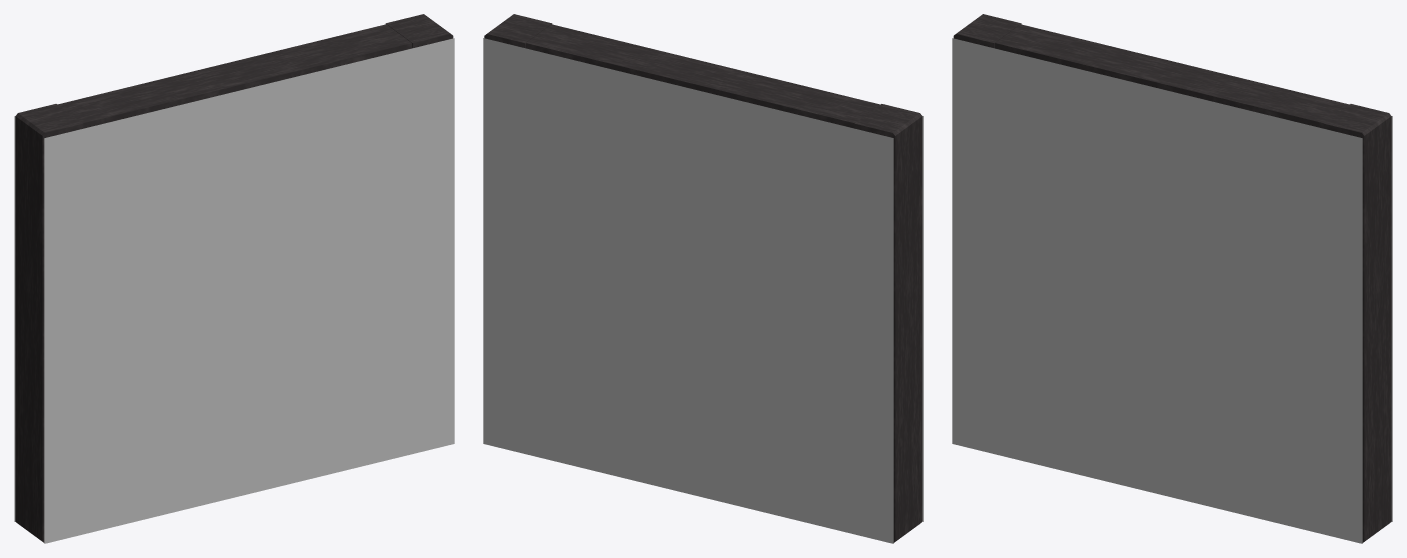
The model's file is Rock_Wall.fbx.
3 renders of one model, left to right at view 1: azimuth 30°, elevation 25°; view 2: azimuth 150°, elevation 25°; view 3: azimuth 330°, elevation 25°, orthographic.
Parts seen in each view (by area): view 1: Rock_Wall; view 2: Rock_Wall; view 3: Rock_Wall.
Part boxes in pixels (x1,y1,x2,y2): Rock_Wall: (14, 14, 454, 543); Rock_Wall: (483, 14, 923, 543); Rock_Wall: (952, 14, 1392, 543).
Bounding box in the file's own units: 212 × 202 × 26.86.
